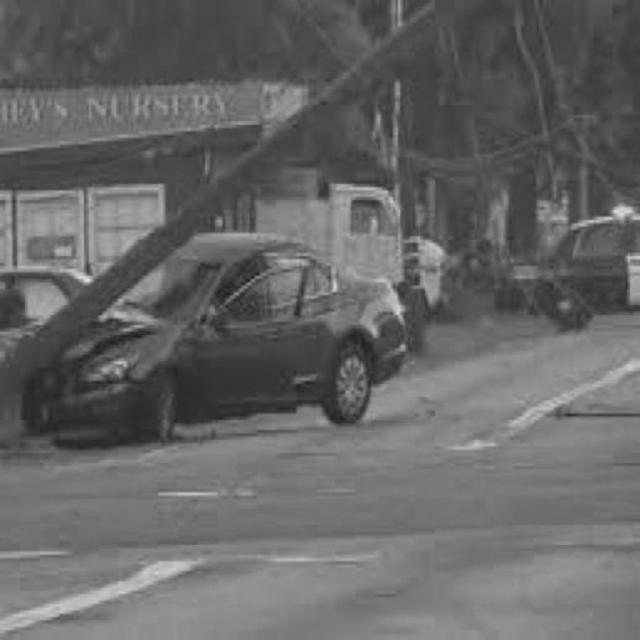accident: (2, 242, 403, 460)
vehicle: (495, 203, 639, 321)
